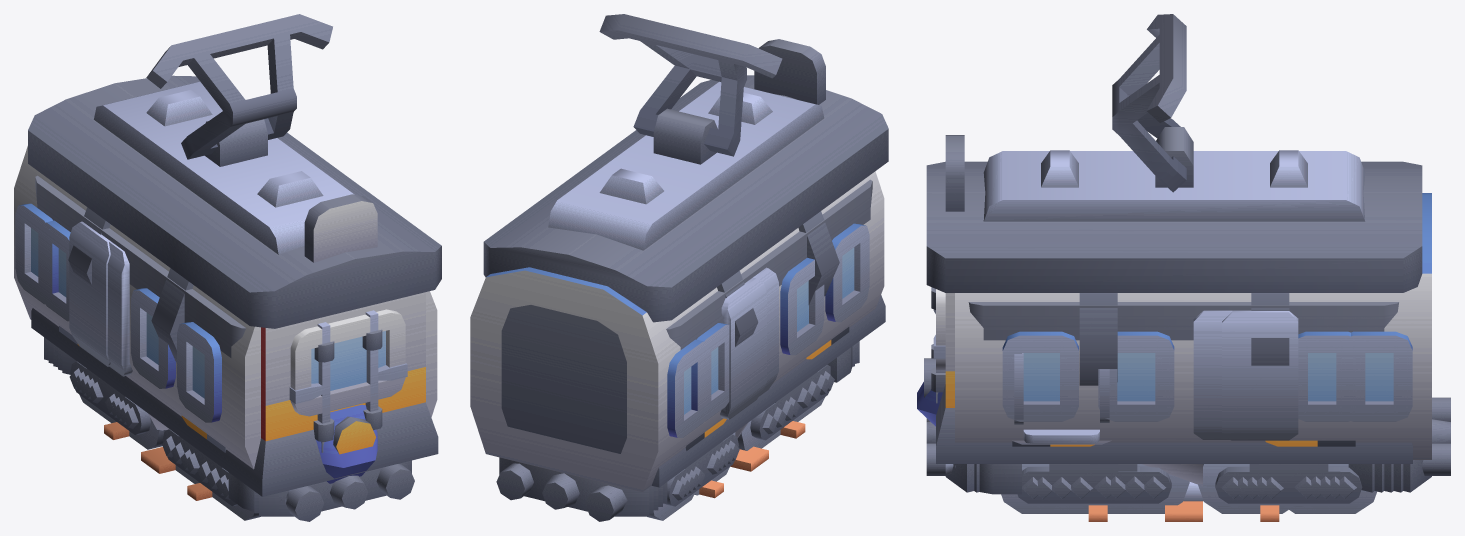
File: trains.glb
The picture shows the model from 3 angles, left to right: view 1: azimuth 30°, elevation 25°; view 2: azimuth 150°, elevation 25°; view 3: azimuth 270°, elevation 25°; orthographic projection. The views are drawn at different scales.
Parts seen in each view (by area): view 1: train-tram-classic, train-electric-bullet-b, train-electric-bullet-a, train-carriage-box, train-carriage-container-red, train-carriage-coal, train-carriage-tank, train-diesel-a, train-electric-city-a, track, train-carriage-lumber; view 2: train-tram-classic, train-electric-bullet-a, train-electric-bullet-b, train-carriage-box, train-carriage-coal, train-carriage-tank, train-electric-city-a, train-diesel-a, track, train-carriage-lumber; view 3: train-tram-classic, train-electric-bullet-b, train-electric-bullet-a, train-carriage-box, train-carriage-coal, train-carriage-tank, train-diesel-a, train-electric-city-a, train-carriage-lumber, track, train-carriage-container-red.
Boxes of the visible parts, box(x1,y1,x2,y2) form: train-tram-classic: box(28, 14, 441, 521); train-electric-bullet-b: box(38, 220, 437, 515); train-electric-bullet-a: box(14, 146, 377, 503); train-carriage-box: box(35, 175, 411, 517); train-carriage-container-red: box(48, 310, 411, 520); train-carriage-coal: box(35, 179, 260, 520); train-carriage-tank: box(49, 207, 411, 517); train-diesel-a: box(62, 344, 281, 501); train-electric-city-a: box(62, 351, 254, 511); track: box(104, 422, 212, 500); train-carriage-lumber: box(48, 326, 409, 516); train-tram-classic: box(483, 14, 888, 509); train-electric-bullet-a: box(470, 257, 812, 521); train-electric-bullet-b: box(510, 171, 884, 512); train-carriage-box: box(513, 179, 872, 506); train-carriage-coal: box(668, 183, 872, 514); train-carriage-tank: box(649, 211, 839, 513); train-electric-city-a: box(663, 347, 852, 503); train-diesel-a: box(663, 340, 831, 503); track: box(699, 421, 805, 498); train-carriage-lumber: box(505, 327, 849, 517); train-tram-classic: box(924, 14, 1422, 503); train-electric-bullet-b: box(936, 293, 1431, 513); train-electric-bullet-a: box(917, 193, 1450, 513); train-carriage-box: box(926, 302, 1441, 513); train-carriage-coal: box(968, 302, 1398, 513); train-carriage-tank: box(964, 293, 1403, 500); train-diesel-a: box(955, 440, 1374, 513); train-electric-city-a: box(979, 464, 1357, 507); train-carriage-lumber: box(926, 397, 1441, 506); track: box(1088, 482, 1279, 521); train-carriage-container-red: box(926, 287, 1441, 498).
Size of the model in its own units: 1.39 by 2.52 by 2.8.
Materials: 1 (1 with a texture image).
